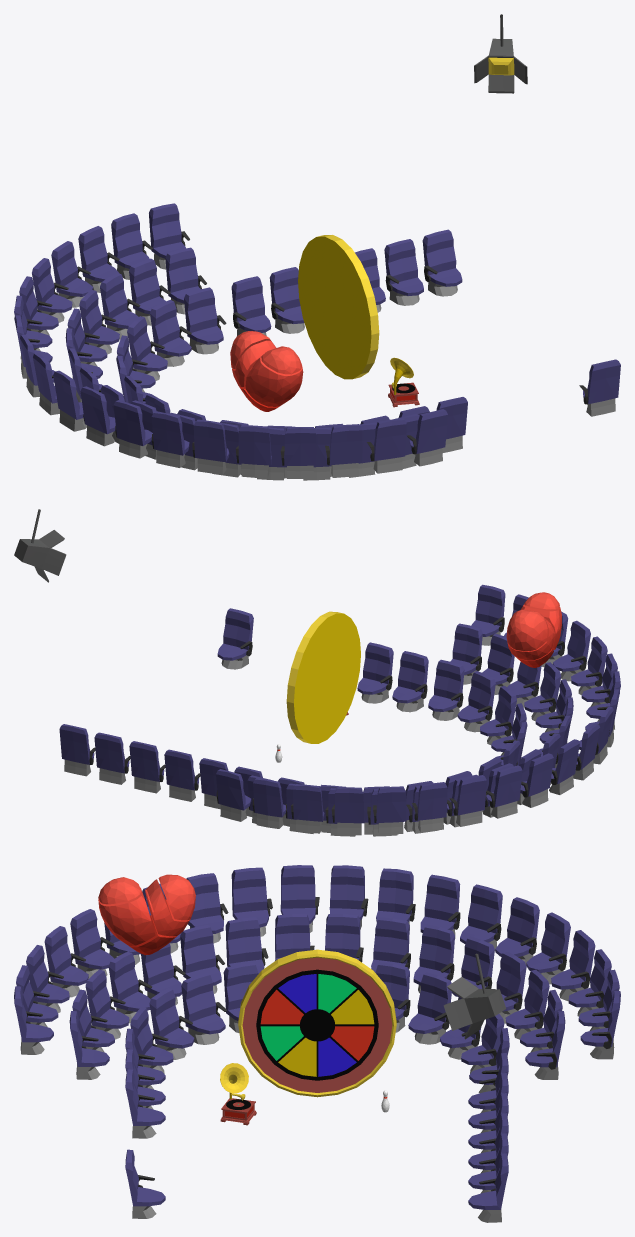
The model's file is hit_the_clown_1.1.fbx.
3 renders of one model, top to bottom at view 1: azimuth 30°, elevation 25°; view 2: azimuth 150°, elevation 25°; view 3: azimuth 270°, elevation 25°, orthographic. The views are drawn at different scales.
Parts seen in each view (by area): view 1: Seats, Wheel, Light, HeartPart_2, MusicPlayer, HeartPart_5, HeartPart_3, HeartPart_4; view 2: Seats, Wheel, Light, HeartPart_4, HeartPart_3, HeartPart_2, HeartPart_5; view 3: Seats, Wheel, Light, HeartPart_2, MusicPlayer, HeartPart_4, HeartPart_3, HeartPart_5, HeartPart_1.
Boxes of the visible parts, x1,y1,x2,y2 form: Seats: [14, 203, 620, 480]; Wheel: [298, 235, 379, 379]; Light: [474, 14, 527, 93]; HeartPart_2: [245, 357, 303, 406]; MusicPlayer: [388, 357, 419, 407]; HeartPart_5: [261, 346, 301, 374]; HeartPart_3: [232, 340, 276, 386]; HeartPart_4: [230, 331, 271, 368]; Seats: [59, 584, 620, 836]; Wheel: [286, 611, 360, 743]; Light: [14, 509, 66, 582]; HeartPart_4: [506, 609, 547, 651]; HeartPart_3: [507, 614, 554, 660]; HeartPart_2: [520, 604, 561, 649]; HeartPart_5: [524, 592, 559, 609]; Seats: [14, 865, 620, 1222]; Wheel: [238, 949, 396, 1097]; Light: [443, 953, 506, 1039]; HeartPart_2: [98, 887, 155, 945]; MusicPlayer: [220, 1063, 256, 1125]; HeartPart_4: [158, 874, 195, 920]; HeartPart_3: [145, 879, 190, 936]; HeartPart_5: [98, 877, 141, 904]; HeartPart_1: [129, 915, 176, 955].
Size of the model in its own units: 668 by 316 by 600.
1 material, 1 textured.
